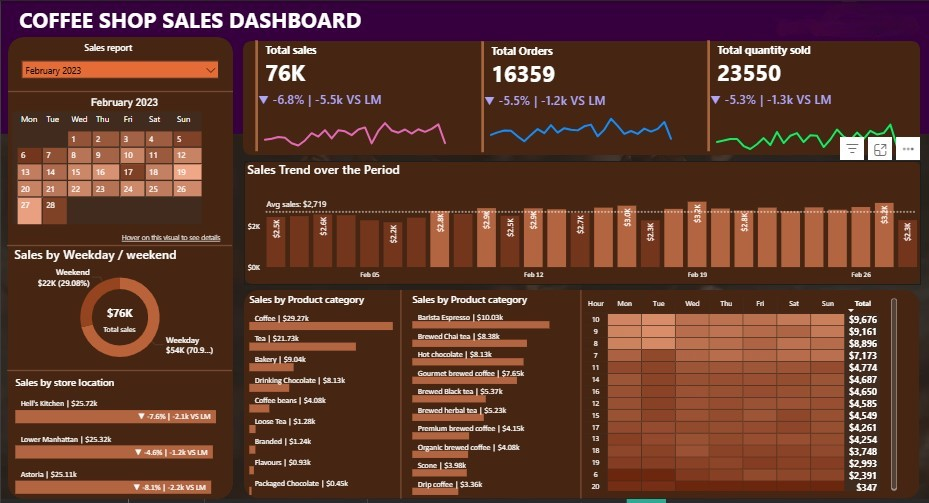

What the dashboard file says about the page in this screenshot:
{"tool":"powerbi","page":{"name":"Page 1","canvas":[1400,750],"ordinal":0},"visuals":[{"type":"shape","box":[0,0,1400.6,200.3],"z":0},{"type":"shape","box":[10.5,54.2,338.9,695.8],"z":1000},{"type":"shape","box":[364.5,60.2,1019.6,171.7],"z":2000},{"type":"textbox","box":[23.3,0,530.4,74.7],"z":3000},{"type":"cardVisual","fields":{"Data":["Transactions.Total sales"]},"box":[378,54.2,301.2,177.7],"z":4000,"group":"g1"},{"type":"cardVisual","fields":{"Data":["Transactions.Total quantity sold"]},"box":[1058.8,54.4,301.2,177.7],"z":4000,"group":"g3"},{"type":"cardVisual","fields":{"Data":["Transactions.Total Orders"]},"box":[718.4,55.7,301.2,177.7],"z":4000,"group":"g2"},{"type":"slicer","fields":{"Values":["Date Table.Month year"]},"box":[21.8,79.3,317.3,85.6],"z":4000},{"type":"group","id":"g1","title":"Group 1","box":[378,54.2,305.7,177.7],"z":5000},{"type":"group","id":"g2","title":"Group 1","box":[718.4,55.7,305.7,177.7],"z":6000},{"type":"lineChart","fields":{"Category":["Date Table.Date Hierarchy.Date"],"Y":["Transactions.Total sales"]},"box":[382.5,135.5,301.2,94.9],"z":6000,"group":"g1"},{"type":"lineChart","fields":{"Category":["Date Table.Date Hierarchy.Date"],"Y":["Transactions.Total quantity sold"]},"box":[1063.3,135.7,301.2,94.9],"z":6000,"group":"g3"},{"type":"lineChart","fields":{"Category":["Date Table.Date Hierarchy.Date"],"Y":["Transactions.Total Orders"]},"box":[722.9,137,301.2,94.9],"z":6000,"group":"g2"},{"type":"group","id":"g3","title":"Group 1","box":[1058.8,54.4,305.7,177.7],"z":7000},{"type":"pivotTable","fields":{"Rows":["Date Table.Week number"],"Columns":["Date Table.Day name"],"Values":["Min(Date Table.Day number)"]},"box":[12,161.1,338.9,189.8],"z":8000},{"type":"card","fields":{"Values":["Min(Date Table.Month year)"]},"box":[116,135.5,140.1,36.1],"z":9000},{"type":"card","fields":{"Values":["Transactions.Foot note"]},"box":[164.2,344.9,183.7,27.1],"z":10000},{"type":"shape","box":[10.5,126.5,338.9,19.6],"z":11000},{"type":"donutChart","title":" Sales by Weekday / weekend","fields":{"Category":["Date Table.Weekday / weekend"],"Y":["Transactions.Total sales"]},"box":[15.1,369,328.3,189.8],"z":12000},{"type":"card","fields":{"Values":["Transactions.Total sales"]},"box":[120.5,450.3,116,57.2],"z":13000},{"type":"shape","box":[9,358.4,338.9,19.6],"z":14000},{"type":"shape","box":[9,546.7,338.9,19.6],"z":15000},{"type":"clusteredBarChart","title":"Sales by store location","fields":{"Category":["Transactions.store_location"],"Y":["Transactions.Place holder","Transactions.Total sales"]},"box":[16.6,563.3,340.4,186.7],"z":16000},{"type":"shape","box":[366,241,1019.6,185.2],"z":17000},{"type":"shape","box":[365.6,435.6,1017.3,314.2],"z":18000},{"type":"columnChart","title":"Sales Trend over the Period","fields":{"Category":["Transactions.transaction_date"],"Y":["Transactions.Total sales"]},"box":[366,241,1019.6,186.7],"z":19000},{"type":"clusteredBarChart","title":"Sales by Product category","fields":{"Y":["Transactions.Place holder","Transactions.Total sales"],"Category":["Transactions.product_category"]},"box":[368.7,438.7,250.4,311.1],"z":20000},{"type":"shape","box":[584.9,435.6,35.8,314.2],"z":21000},{"type":"clusteredBarChart","title":"Sales by Product category","fields":{"Y":["Transactions.Place holder","Transactions.Total sales"],"Category":["Transactions.product_type"]},"box":[614.4,438.7,250.4,311.1],"z":22000},{"type":"shape","box":[855.6,435.6,35.8,314.2],"z":23000},{"type":"pivotTable","fields":{"Rows":["Transactions.Hour"],"Columns":["Date Table.Day name"],"Values":["Transactions.Total sales"]},"box":[874.2,443.3,480.7,300.2],"z":24000},{"type":"textbox","box":[119.8,56,205.3,43.6],"z":25000},{"type":"textbox","box":[1165.1,24.9,234.9,45.1],"z":26000}]}

Visuals, with their boxes in screenshot pixels (x1, y1, x2, y2), scaled from the page's 1400x750 canvas onto the 929x503 screenshot:
shape: crop(0, 0, 928, 134)
shape: crop(7, 36, 232, 502)
shape: crop(242, 40, 918, 156)
textbox: crop(15, 0, 367, 50)
cardVisual - Transactions.Total sales: crop(251, 36, 451, 156)
cardVisual - Transactions.Total quantity sold: crop(703, 36, 902, 156)
cardVisual - Transactions.Total Orders: crop(477, 37, 677, 157)
slicer - Date Table.Month year: crop(14, 53, 225, 111)
"Group 1" group: crop(251, 36, 454, 156)
"Group 1" group: crop(477, 37, 680, 157)
lineChart - Date Table.Date Hierarchy.Date x Transactions.Total sales: crop(254, 91, 454, 155)
lineChart - Date Table.Date Hierarchy.Date x Transactions.Total quantity sold: crop(706, 91, 905, 155)
lineChart - Date Table.Date Hierarchy.Date x Transactions.Total Orders: crop(480, 92, 680, 156)
"Group 1" group: crop(703, 36, 905, 156)
pivotTable - Date Table.Week number x Date Table.Day name: crop(8, 108, 233, 235)
card - Min(Date Table.Month year): crop(77, 91, 170, 115)
card - Transactions.Foot note: crop(109, 231, 231, 249)
shape: crop(7, 85, 232, 98)
" Sales by Weekday / weekend" donutChart: crop(10, 247, 228, 375)
card - Transactions.Total sales: crop(80, 302, 157, 340)
shape: crop(6, 240, 231, 254)
shape: crop(6, 367, 231, 380)
"Sales by store location" clusteredBarChart: crop(11, 378, 237, 502)
shape: crop(243, 162, 919, 286)
shape: crop(243, 292, 918, 502)
"Sales Trend over the Period" columnChart: crop(243, 162, 919, 287)
"Sales by Product category" clusteredBarChart: crop(245, 294, 411, 502)
shape: crop(388, 292, 412, 502)
"Sales by Product category" clusteredBarChart: crop(408, 294, 574, 502)
shape: crop(568, 292, 592, 502)
pivotTable - Transactions.Hour x Date Table.Day name: crop(580, 297, 899, 499)
textbox: crop(79, 38, 216, 67)
textbox: crop(773, 17, 928, 47)
